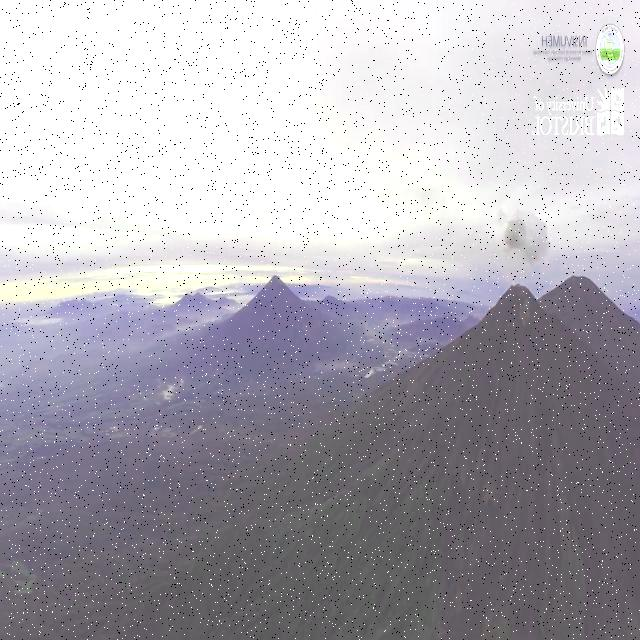Plume: (497, 198, 554, 267)
Summit: (444, 278, 595, 362)
